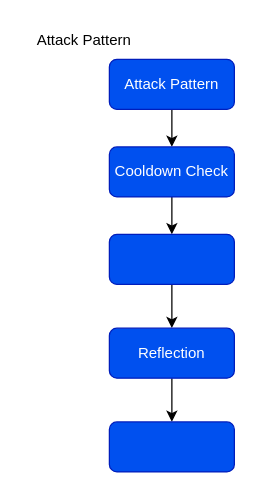
This 256x494 diagram has some shape labels left out. Each missing label, with the box of its shape:
Attack(): (108, 421, 234, 472)
Stamina Check: (108, 233, 234, 284)
